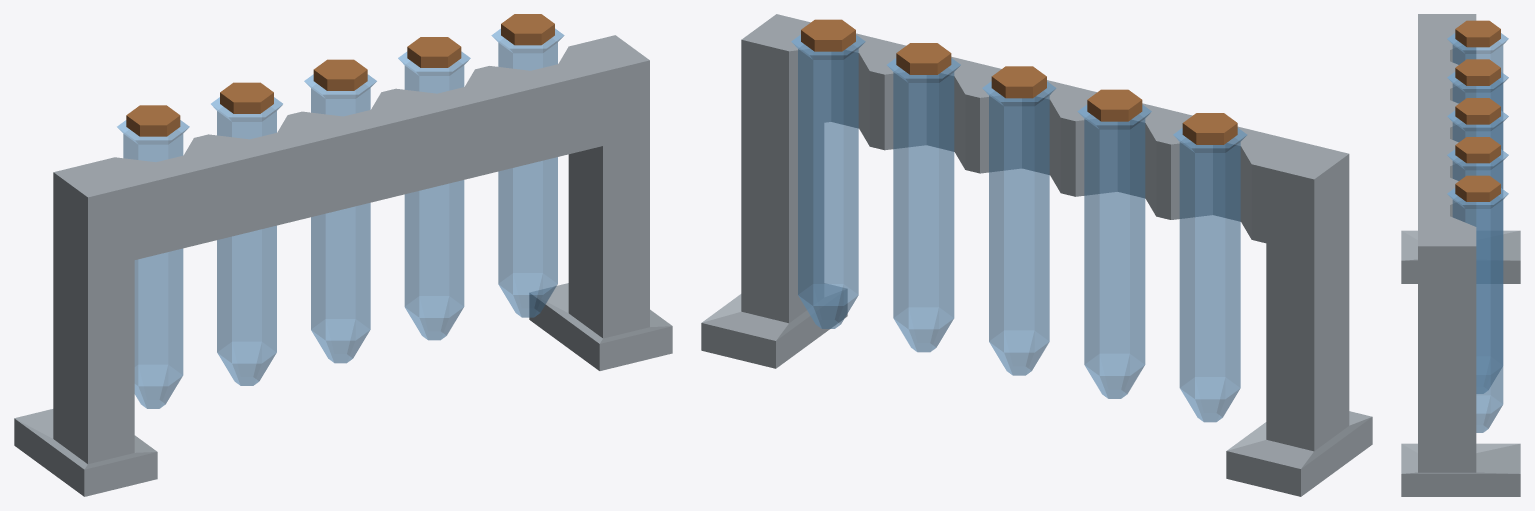
Rendered from TestTubes.fbx.
3 views of the same model, side by side, from view 1: azimuth 30°, elevation 25°; view 2: azimuth 150°, elevation 25°; view 3: azimuth 270°, elevation 25° (orthographic). The views are drawn at different scales.
Visible parts, largest first — view 1: TestTubes; view 2: TestTubes; view 3: TestTubes.
Part boxes in pixels (left/top/right/bottom): TestTubes: left=14, top=14, right=672, bottom=496; TestTubes: left=701, top=14, right=1372, bottom=496; TestTubes: left=1401, top=14, right=1520, bottom=496.
Bounding box in the file's own units: 22.75 × 11.85 × 4.71.
